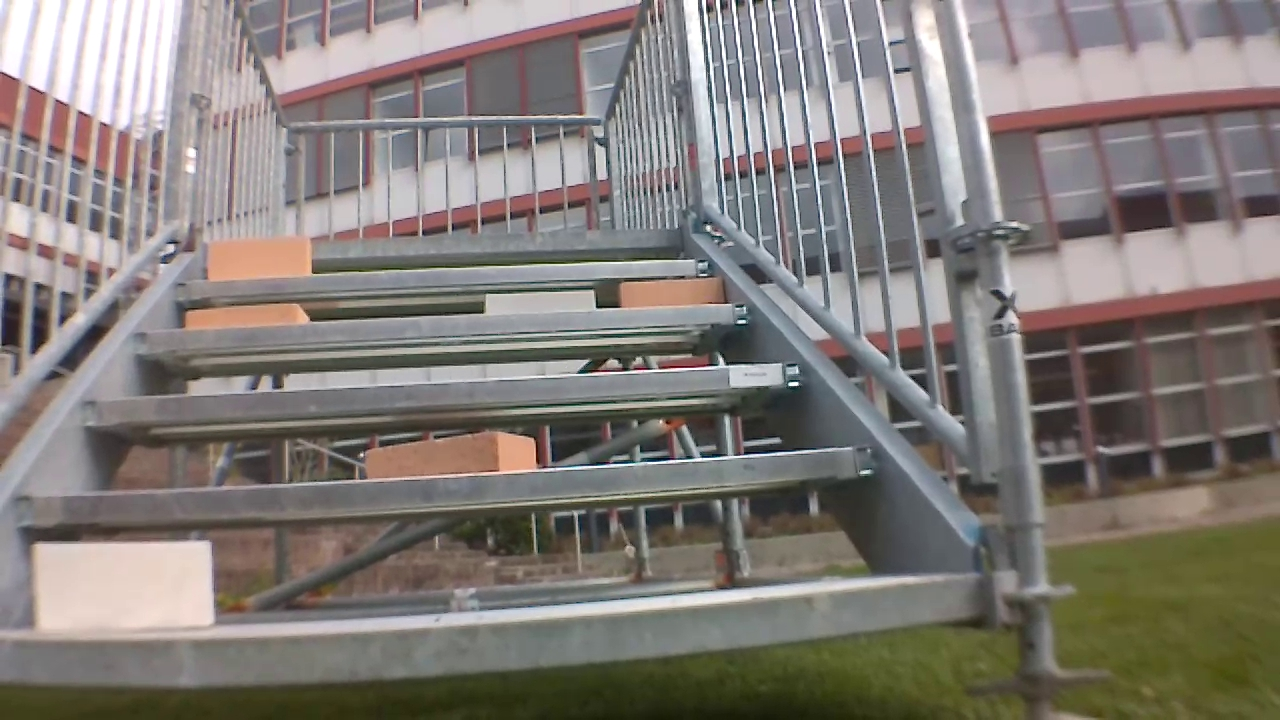brick: (33, 540, 212, 630), (366, 431, 534, 477), (206, 237, 310, 276), (619, 276, 721, 309), (185, 304, 310, 327), (485, 290, 595, 314)
edge: (1, 576, 983, 688), (16, 447, 875, 523), (79, 363, 802, 424), (134, 304, 754, 352), (176, 260, 708, 293), (201, 231, 679, 258)
stairs: (5, 5, 1084, 716)
steps: (7, 226, 990, 698)
